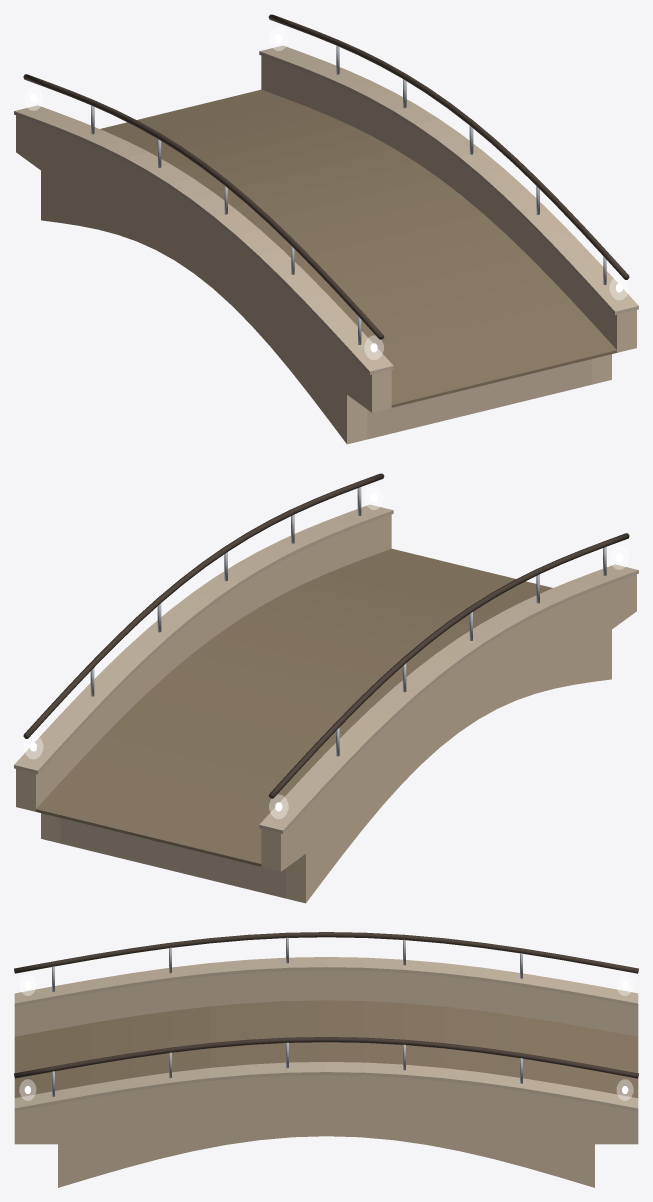
File: city_footbridge_8.glb
3 renders of one model, top to bottom at view 1: azimuth 30°, elevation 25°; view 2: azimuth 150°, elevation 25°; view 3: azimuth 270°, elevation 25°, orthographic. The views are drawn at different scales.
Visible parts, largest first — view 1: CityFootbridge8_Deck, CityFootbridge8_Spandrel0.0, CityFootbridge8_Spandrel3.7, CityFootbridge8_Coping0.0, CityFootbridge8_Coping3.7, CityFootbridge8_Body, CityFootbridge8_Handrail0.0, CityFootbridge8_Handrail3.7; view 2: CityFootbridge8_Deck, CityFootbridge8_Spandrel0.0, CityFootbridge8_Spandrel3.7, CityFootbridge8_Coping0.0, CityFootbridge8_Coping3.7, CityFootbridge8_Body, CityFootbridge8_Handrail0.0, CityFootbridge8_Handrail3.7; view 3: CityFootbridge8_Spandrel3.7, CityFootbridge8_Deck, CityFootbridge8_Spandrel0.0, CityFootbridge8_Coping3.7, CityFootbridge8_Coping0.0, CityFootbridge8_Handrail0.0, CityFootbridge8_Handrail3.7.
Boxes of the visible parts, x1,y1,x2,y2 form: CityFootbridge8_Deck: (100,89,616,407); CityFootbridge8_Spandrel0.0: (16,115,391,444); CityFootbridge8_Spandrel3.7: (261,55,636,384); CityFootbridge8_Coping0.0: (14,105,393,374); CityFootbridge8_Coping3.7: (259,45,638,315); CityFootbridge8_Body: (367,359,592,439); CityFootbridge8_Handrail0.0: (23,74,384,339); CityFootbridge8_Handrail3.7: (268,14,629,279); CityFootbridge8_Deck: (36,548,552,866); CityFootbridge8_Spandrel0.0: (261,574,636,903); CityFootbridge8_Spandrel3.7: (16,514,391,843); CityFootbridge8_Coping0.0: (259,564,638,833); CityFootbridge8_Coping3.7: (14,504,393,774); CityFootbridge8_Body: (60,818,285,898); CityFootbridge8_Handrail0.0: (268,533,629,798); CityFootbridge8_Handrail3.7: (23,473,384,738); CityFootbridge8_Spandrel3.7: (14,1075,638,1187); CityFootbridge8_Deck: (14,1000,638,1097); CityFootbridge8_Spandrel0.0: (14,970,638,1036); CityFootbridge8_Coping3.7: (14,1062,638,1111); CityFootbridge8_Coping0.0: (14,957,638,1006); CityFootbridge8_Handrail0.0: (14,932,638,973); CityFootbridge8_Handrail3.7: (14,1037,638,1078).
Size of the model in its own units: 4.06 by 2.41 by 9.32.
